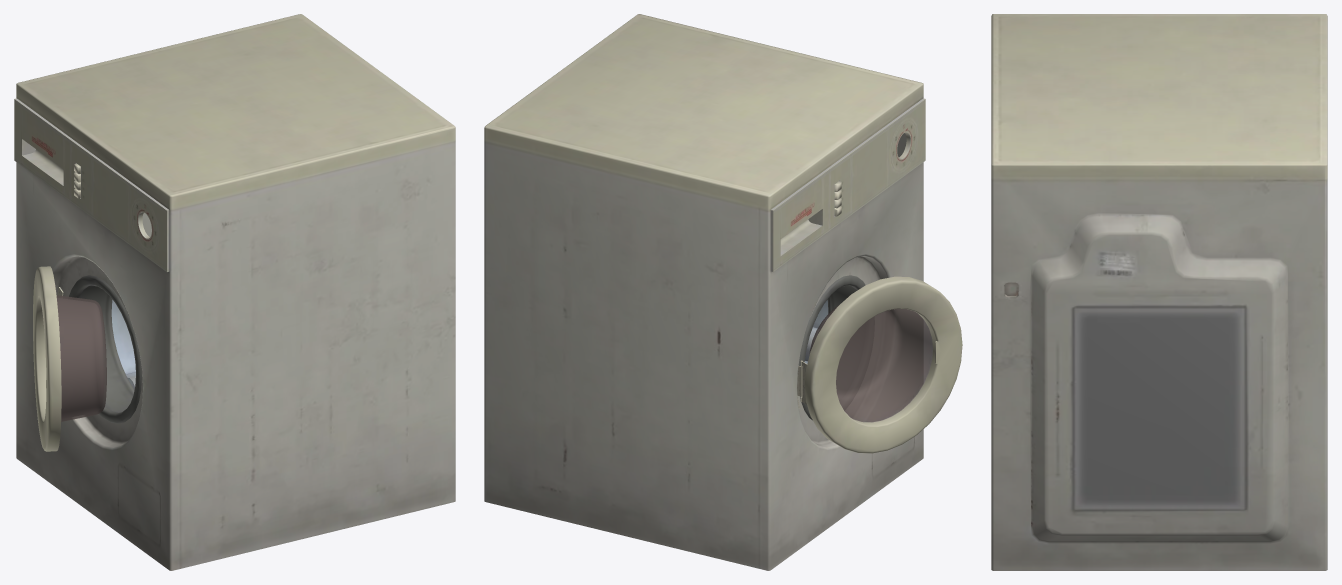
File: washer.glb
3 views of the same model, side by side, from view 1: azimuth 30°, elevation 25°; view 2: azimuth 150°, elevation 25°; view 3: azimuth 270°, elevation 25° (orthographic). The views are drawn at different scales.
Visible parts, largest first — view 1: defaultMaterial; view 2: defaultMaterial; view 3: defaultMaterial.
Boxes of the visible parts, left/top/right/bottom form: defaultMaterial: left=14, top=14, right=455, bottom=570; defaultMaterial: left=484, top=14, right=962, bottom=570; defaultMaterial: left=991, top=14, right=1327, bottom=570.
Size of the model in its own units: 1.88 by 1.82 by 1.34.
1 material, 1 textured.
